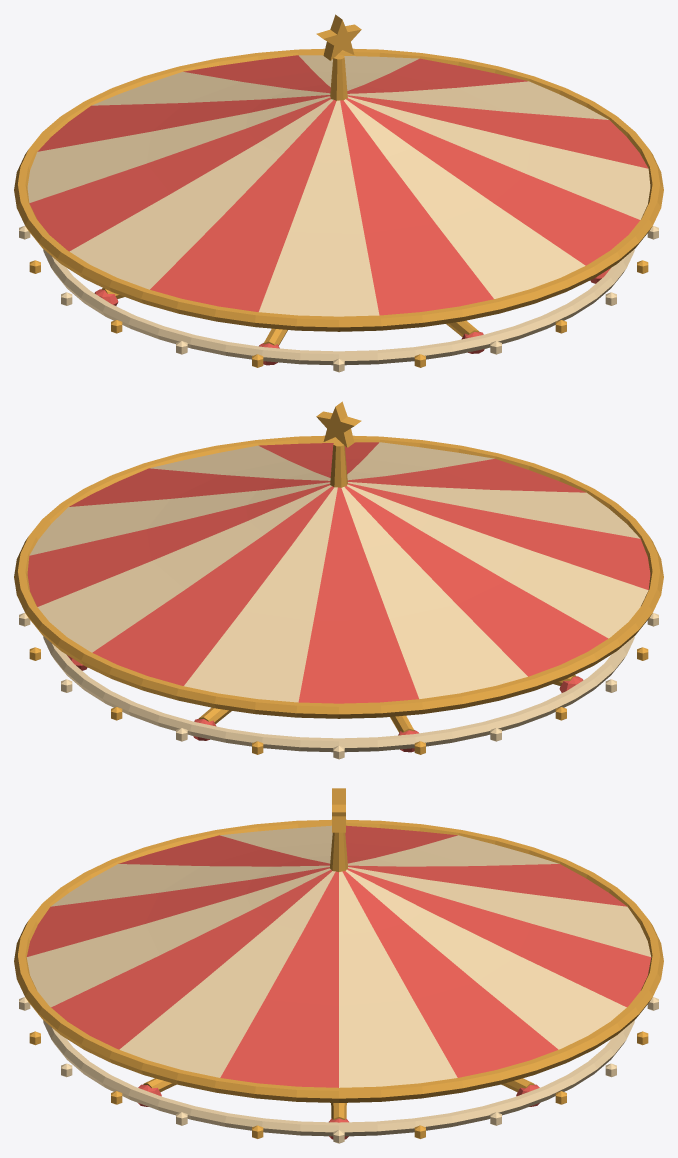
Rendered from ParkParkSwingCrown.obj.
3 views of the same model, one above another, from view 1: azimuth 30°, elevation 25°; view 2: azimuth 150°, elevation 25°; view 3: azimuth 270°, elevation 25° (orthographic).
Visible parts, largest first — view 1: ParkParkSwingCrown; view 2: ParkParkSwingCrown; view 3: ParkParkSwingCrown.
Part boxes in pixels (x1,y1,x2,y2): ParkParkSwingCrown: (14, 14, 663, 372); ParkParkSwingCrown: (14, 401, 663, 759); ParkParkSwingCrown: (14, 788, 663, 1143).
Size of the model in its own units: 11.06 by 4.65 by 11.06.
